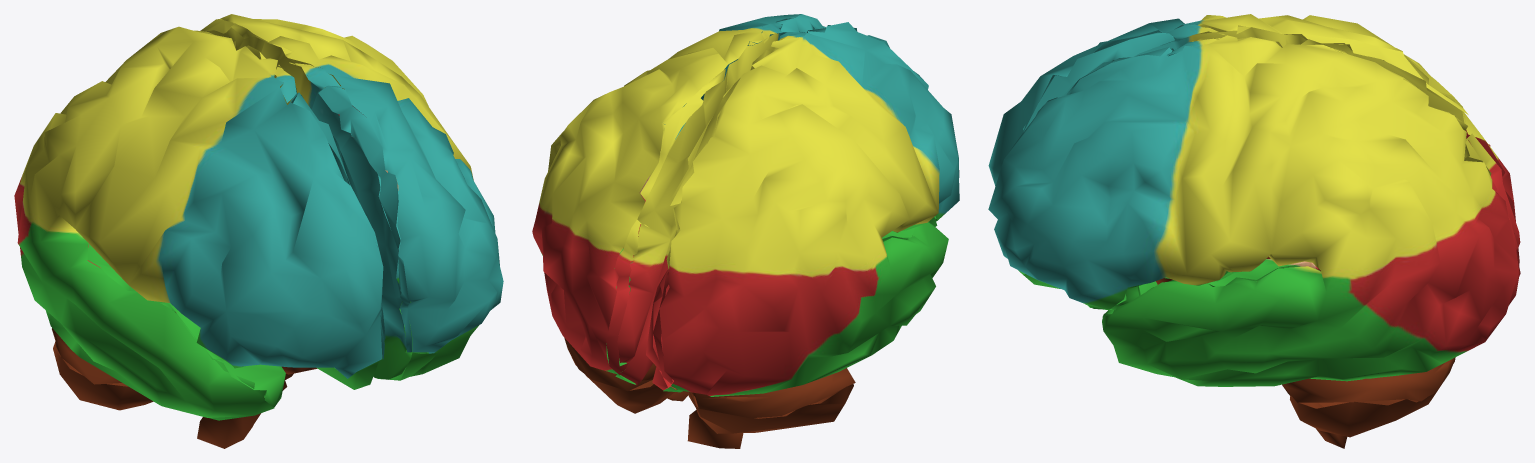
The model's file is baa.glb.
3 renders of one model, left to right at view 1: azimuth 30°, elevation 25°; view 2: azimuth 150°, elevation 25°; view 3: azimuth 270°, elevation 25°, orthographic. The views are drawn at different scales.
Parts seen in each view (by area): view 1: Brain_Part_04; view 2: Brain_Part_04; view 3: Brain_Part_04.
Part boxes in pixels (box(x1,y1,x2,y2)): Brain_Part_04: box(14, 14, 503, 448); Brain_Part_04: box(532, 14, 959, 448); Brain_Part_04: box(988, 14, 1520, 448).
Bounding box in the file's own units: 1.07 × 1.13 × 1.32.
1 material, 1 textured.
